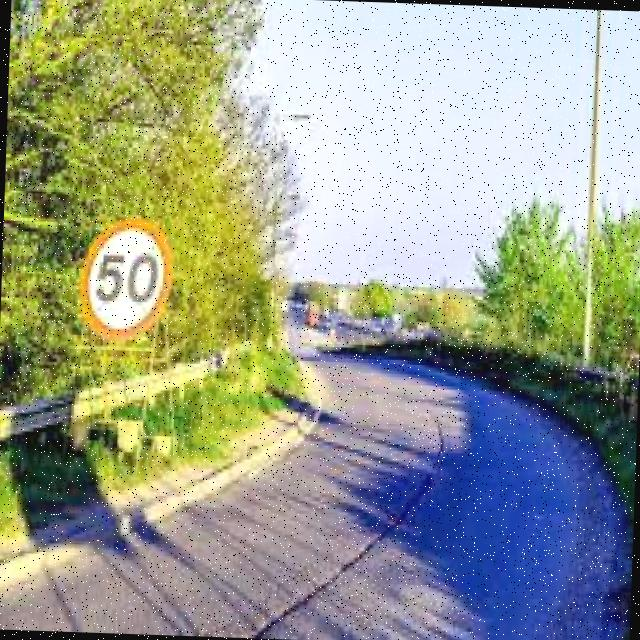Ograniczenie predkosci do 50: (76, 212, 180, 341)
